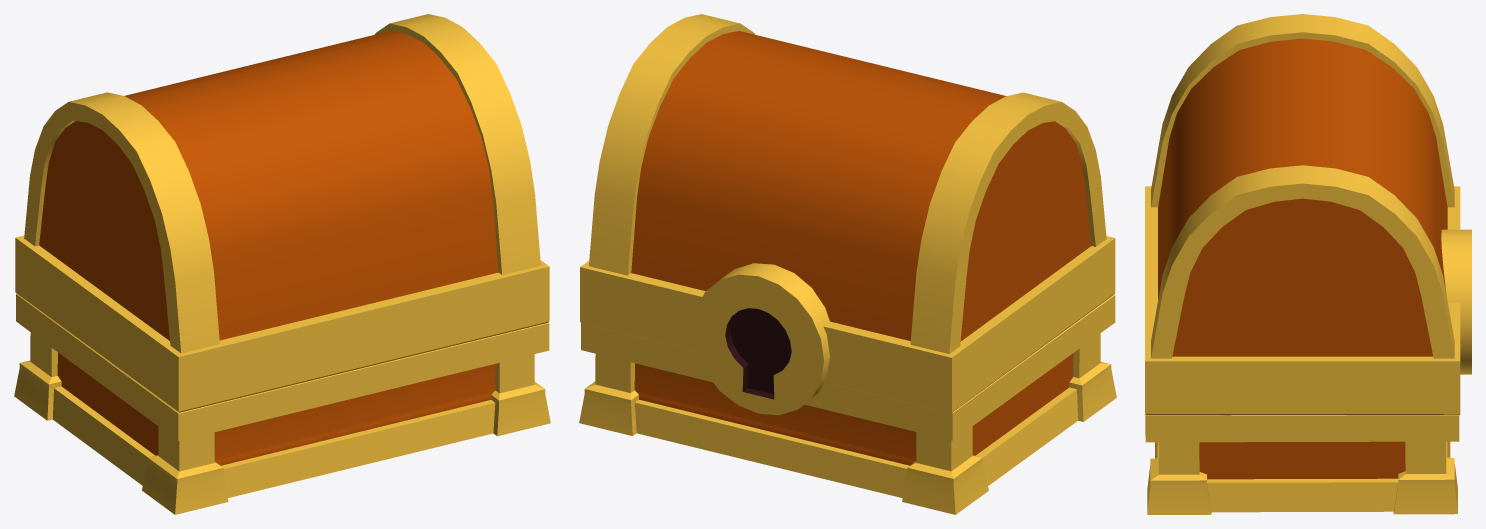
The model's file is chest1. animation stretch-squash.fbx.
The picture shows the model from 3 angles, left to right: view 1: azimuth 30°, elevation 25°; view 2: azimuth 150°, elevation 25°; view 3: azimuth 270°, elevation 25°; orthographic projection. The views are drawn at different scales.
Parts seen in each view (by area): view 1: Chest_Top002, Chest_Bottom001; view 2: Chest_Top002, Chest_Bottom001, Cylinder001; view 3: Chest_Top002, Chest_Bottom001, Cylinder001.
Part boxes in pixels (<box>): Chest_Top002: <box>15,14,549,412</box>; Chest_Bottom001: <box>14,294,550,514</box>; Chest_Top002: <box>580,14,1115,413</box>; Chest_Bottom001: <box>579,295,1116,514</box>; Cylinder001: <box>693,263,829,415</box>; Chest_Top002: <box>1145,14,1460,415</box>; Chest_Bottom001: <box>1145,414,1459,514</box>; Cylinder001: <box>1441,229,1471,374</box>.
Size of the model in its own units: 82 by 70.75 by 63.92.
